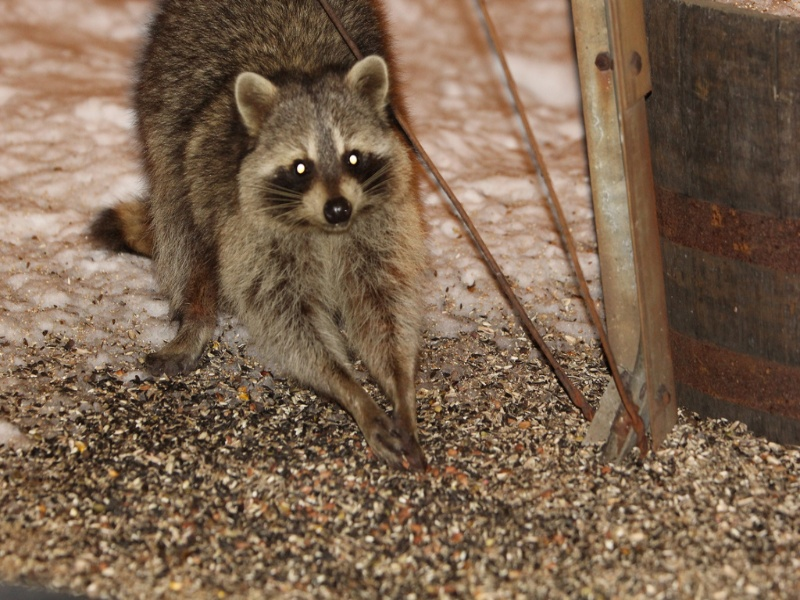raccoon: (90, 2, 445, 479)
